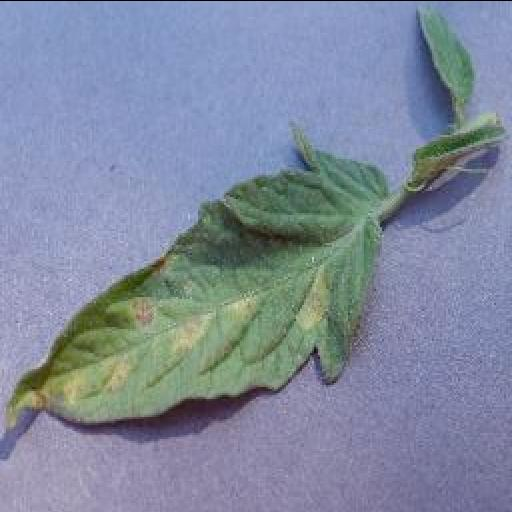disease_tomato: (2, 121, 390, 426)
